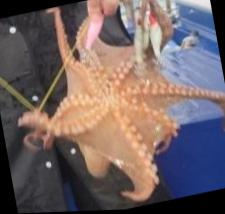Cephalopod: (17, 0, 225, 204)
